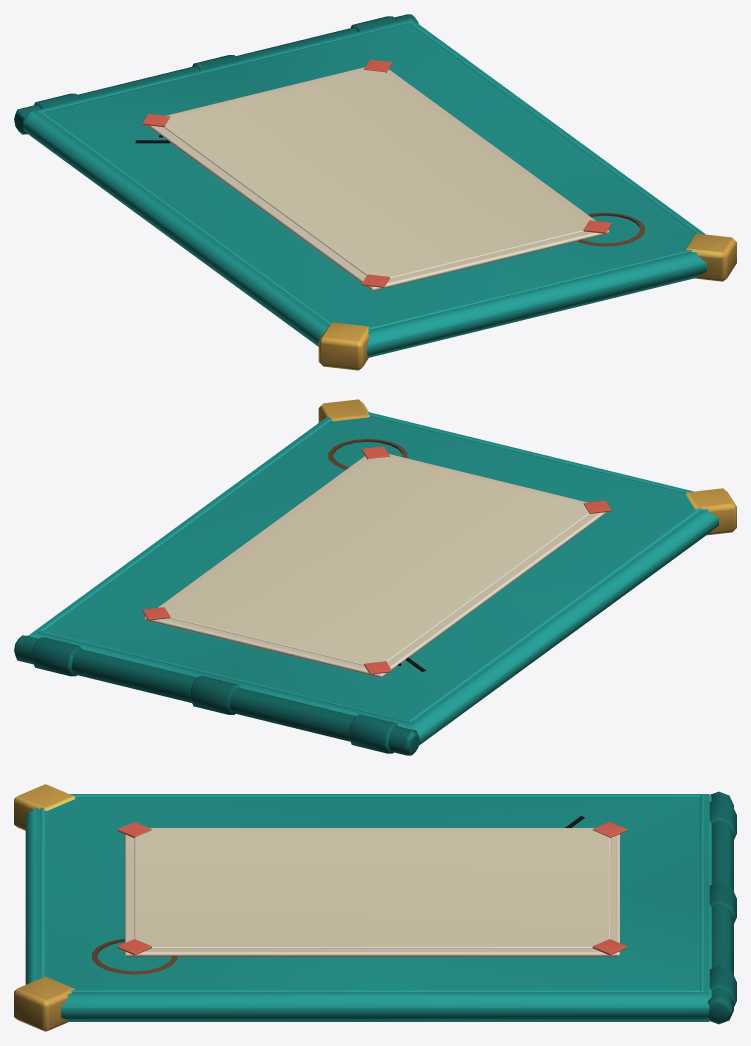
File: SM_Prop_ScriptBook_Cover.fbx
3 renders of one model, top to bottom at view 1: azimuth 30°, elevation 25°; view 2: azimuth 150°, elevation 25°; view 3: azimuth 270°, elevation 25°, orthographic. The views are drawn at different scales.
Visible parts, largest first — view 1: SM_Prop_ScriptBook_Cover; view 2: SM_Prop_ScriptBook_Cover; view 3: SM_Prop_ScriptBook_Cover.
Part boxes in pixels (x1,y1,x2,y2): SM_Prop_ScriptBook_Cover: (14, 14, 736, 370); SM_Prop_ScriptBook_Cover: (14, 399, 736, 755); SM_Prop_ScriptBook_Cover: (14, 784, 736, 1031).
Bounding box in the file's own units: 105 × 8.22 × 146.
